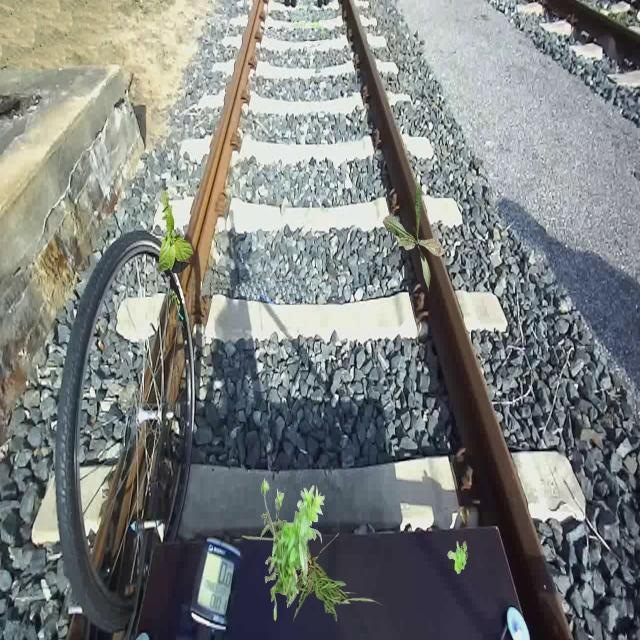Plant: (242, 505, 386, 624), (260, 478, 324, 622), (383, 182, 447, 294), (158, 190, 193, 274), (447, 541, 468, 574)
